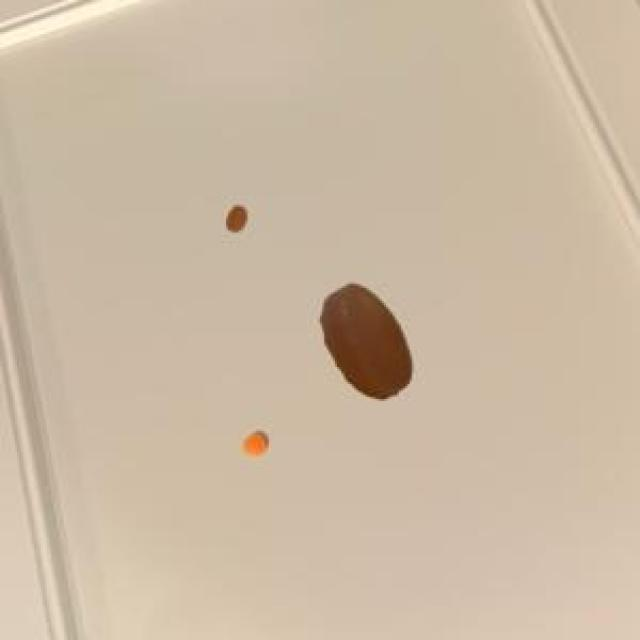Bactidol: (311, 274, 429, 411), (234, 419, 285, 471), (221, 197, 255, 240)
